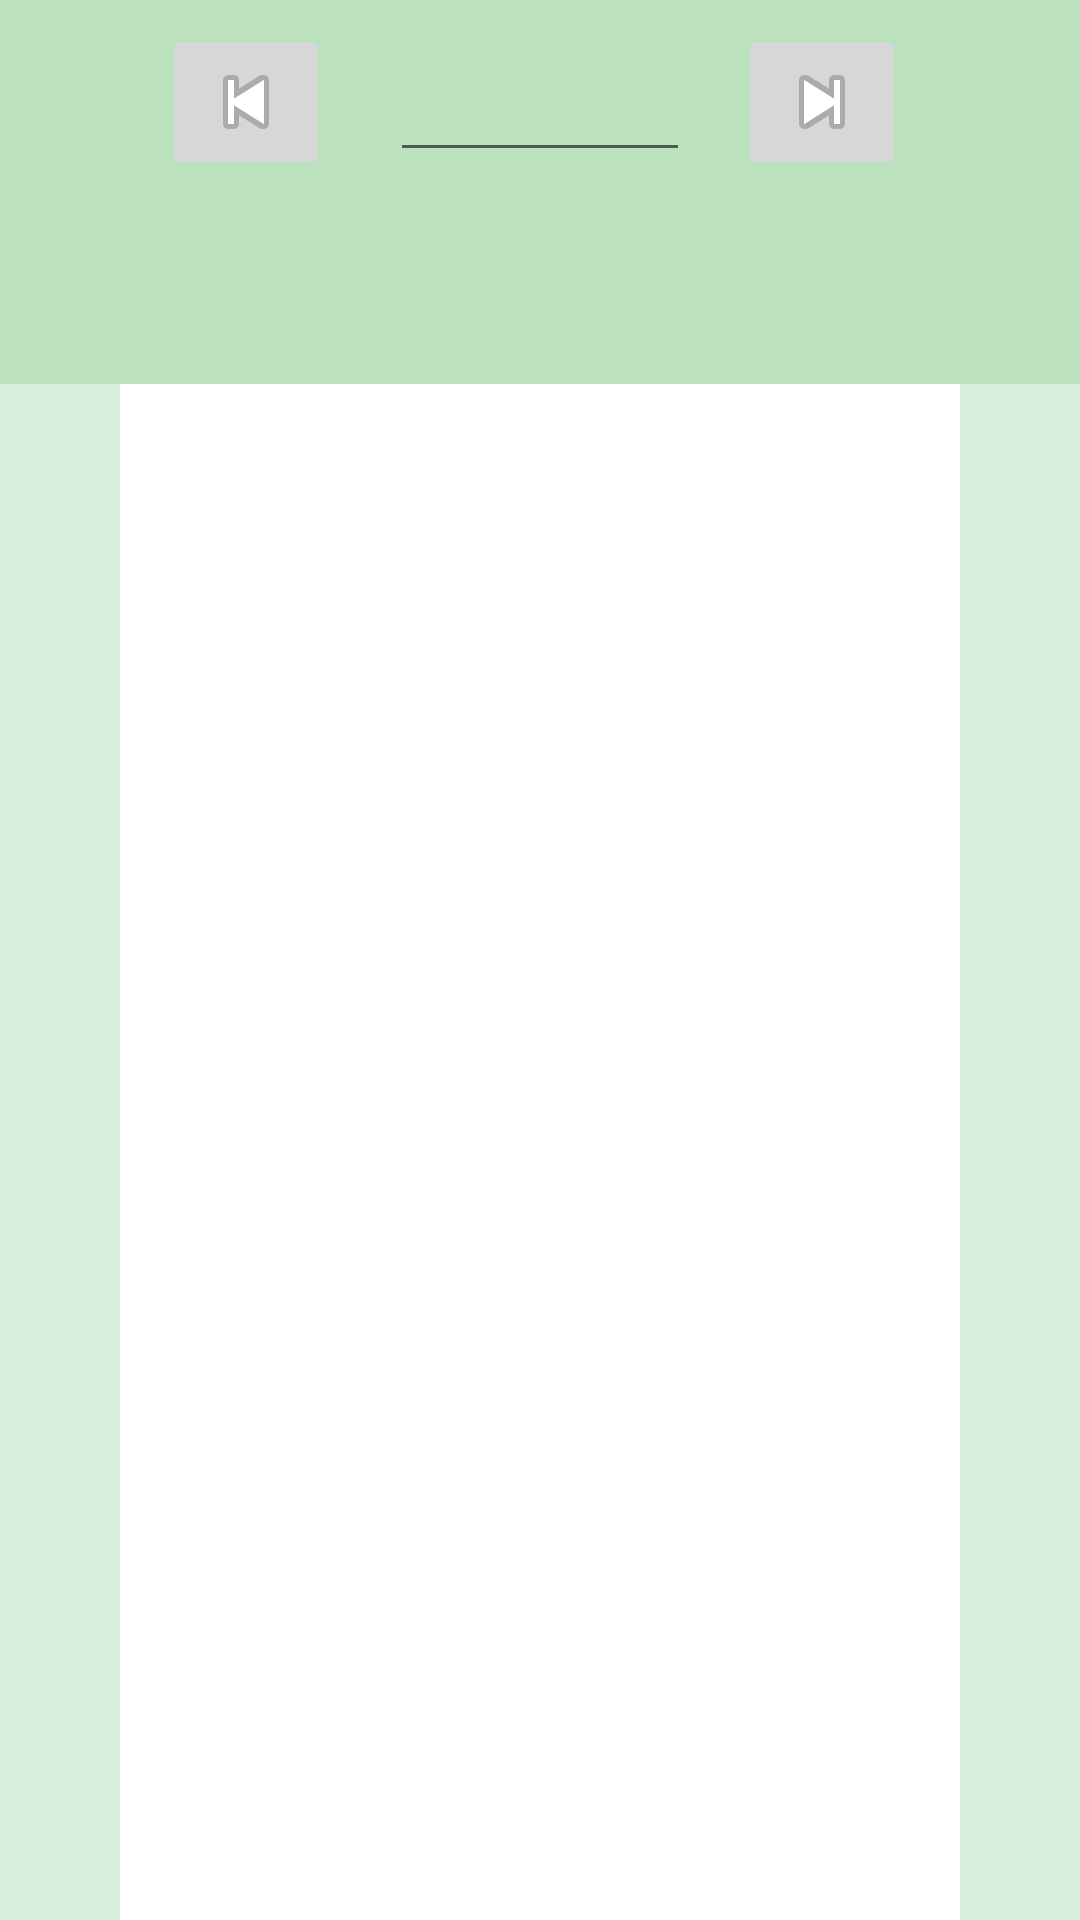

Locate icon controls on the screen. Image size 1080px x 1920px, boxes as box(x1, y1, x2, y2).
next: box(750, 42, 894, 162)
previous: box(174, 42, 318, 162)
